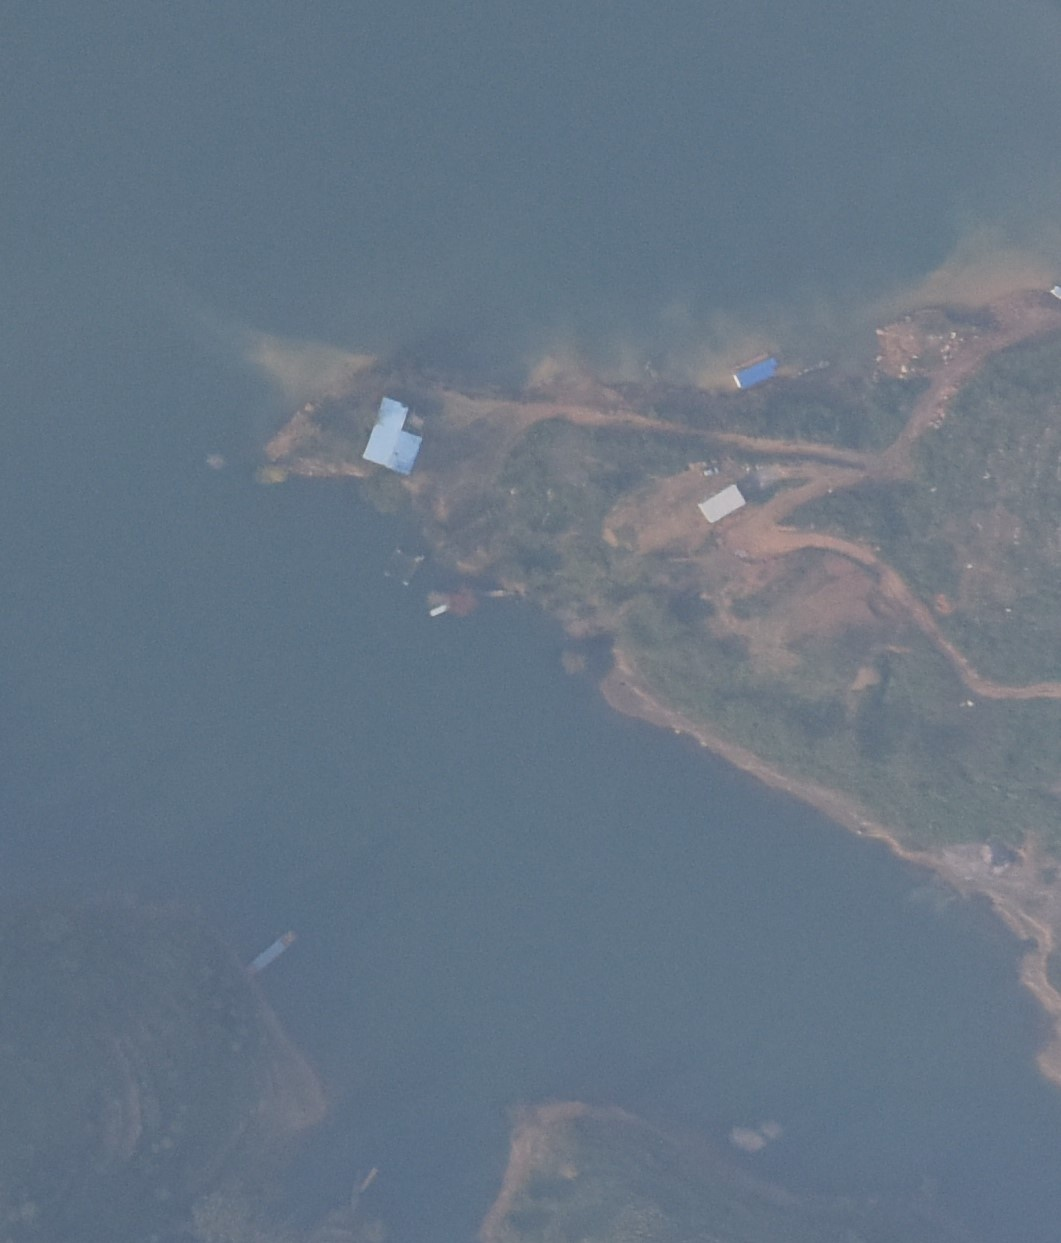cultivation-mesh-cage: (384, 546, 424, 588)
prefabricated-house: (361, 397, 426, 476), (694, 483, 755, 529), (724, 355, 782, 388)
ship: (236, 927, 304, 983), (425, 601, 452, 620)
